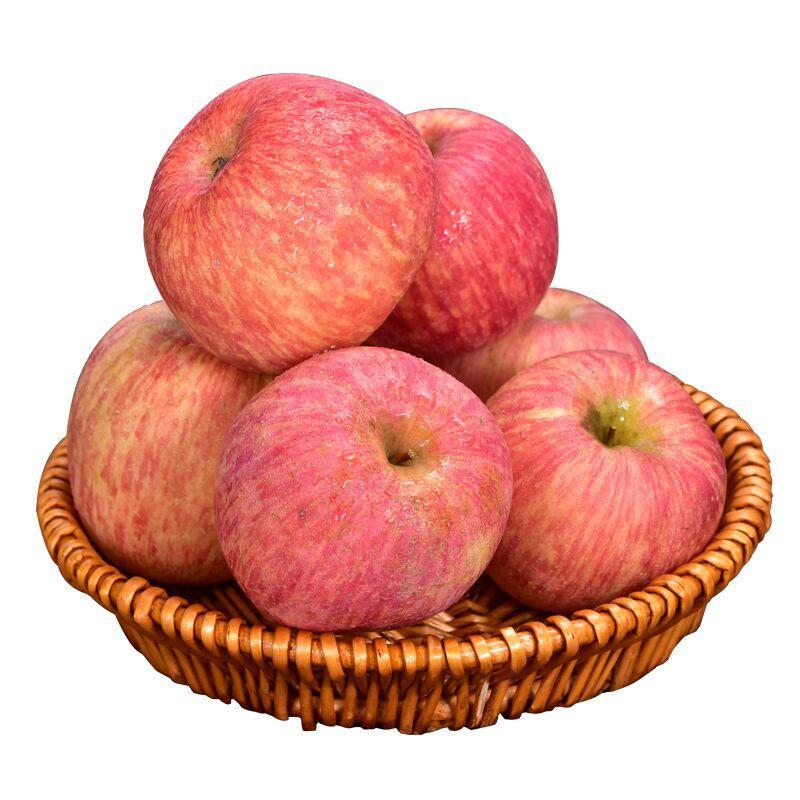apple: (137, 59, 434, 369), (213, 345, 524, 618), (484, 348, 732, 614), (64, 303, 251, 589), (377, 102, 566, 351), (445, 287, 641, 401)
